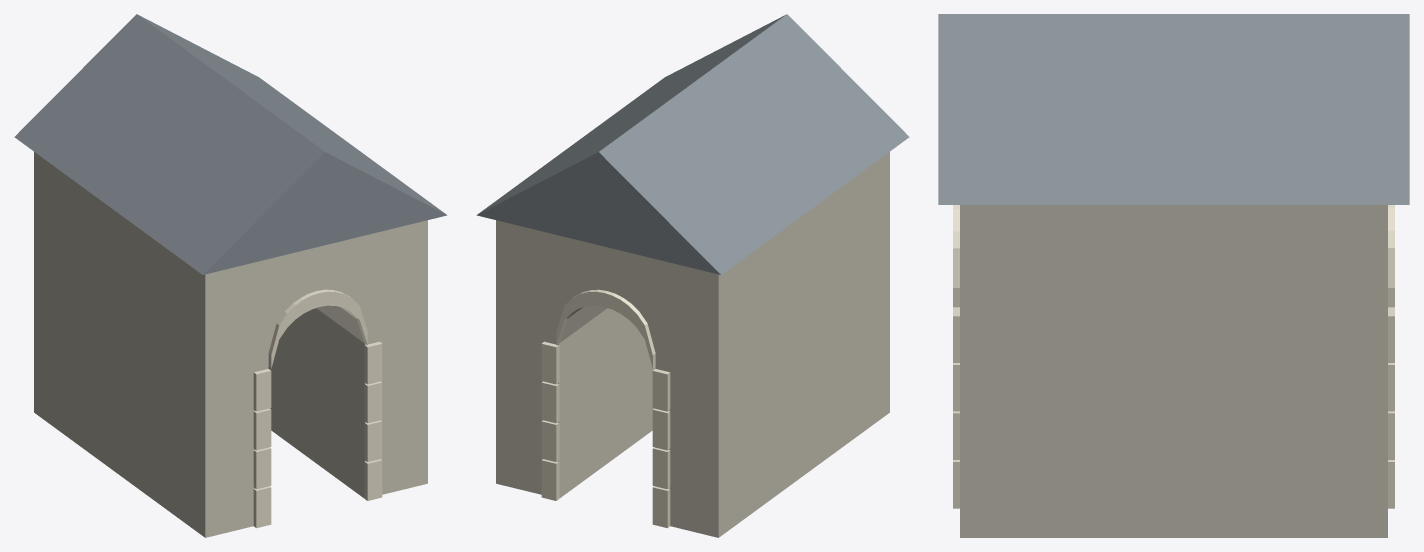
The model's file is covered-sally-port.glb.
3 views of the same model, side by side, from view 1: azimuth 30°, elevation 25°; view 2: azimuth 150°, elevation 25°; view 3: azimuth 270°, elevation 25° (orthographic). The views are drawn at different scales.
Visible parts, largest first — view 1: covered-sally-port; view 2: covered-sally-port; view 3: covered-sally-port.
Boxes of the visible parts, x1,y1,x2,y2 form: covered-sally-port: (14, 14, 447, 537); covered-sally-port: (476, 14, 909, 537); covered-sally-port: (938, 14, 1409, 537).
Bounding box in the file's own units: 3.3 × 4.7 × 4.4.
